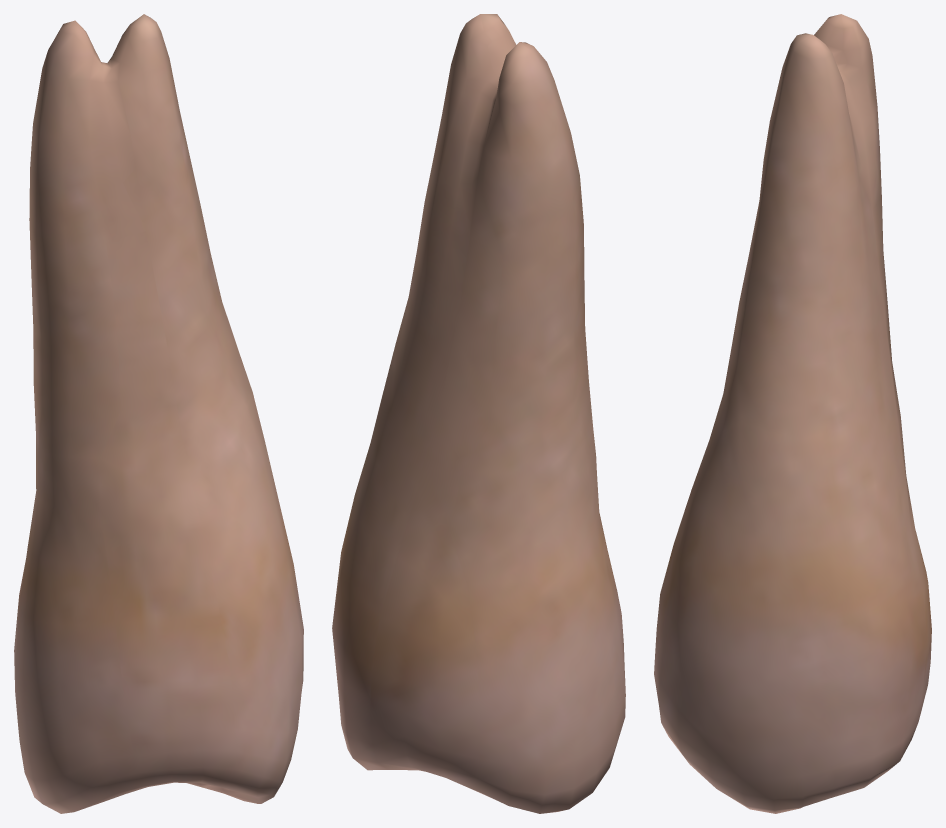
The picture shows the model from 3 angles, left to right: view 1: azimuth 30°, elevation 25°; view 2: azimuth 150°, elevation 25°; view 3: azimuth 270°, elevation 25°; orthographic projection. The views are drawn at different scales.
Visible parts, largest first — view 1: t_25; view 2: t_25; view 3: t_25.
Part boxes in pixels (box(x1,y1,x2,y2)): t_25: box(14, 14, 303, 813); t_25: box(332, 14, 625, 813); t_25: box(654, 14, 931, 813).
Bounding box in the file's own units: 0.0681 × 0.205 × 0.0699.
1 material, 1 textured.
